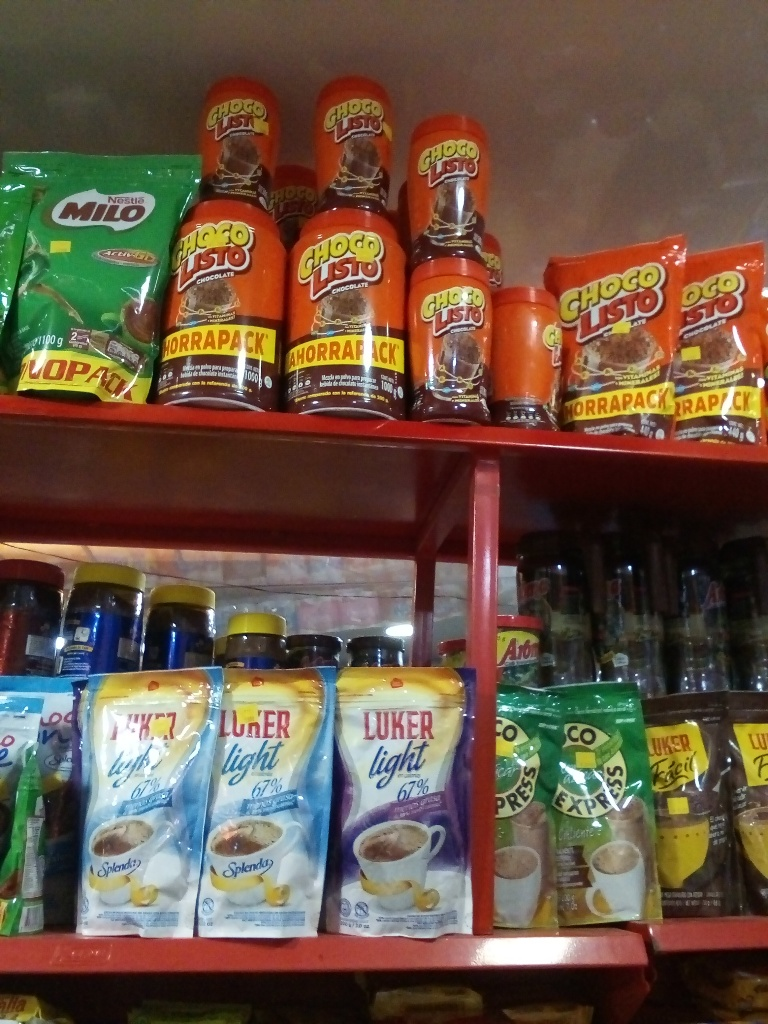COL0170103DYP40000: (561, 230, 685, 448)
COL0170103TRR00100: (157, 189, 288, 415)
COL0170103TRR30000: (196, 70, 285, 206)
